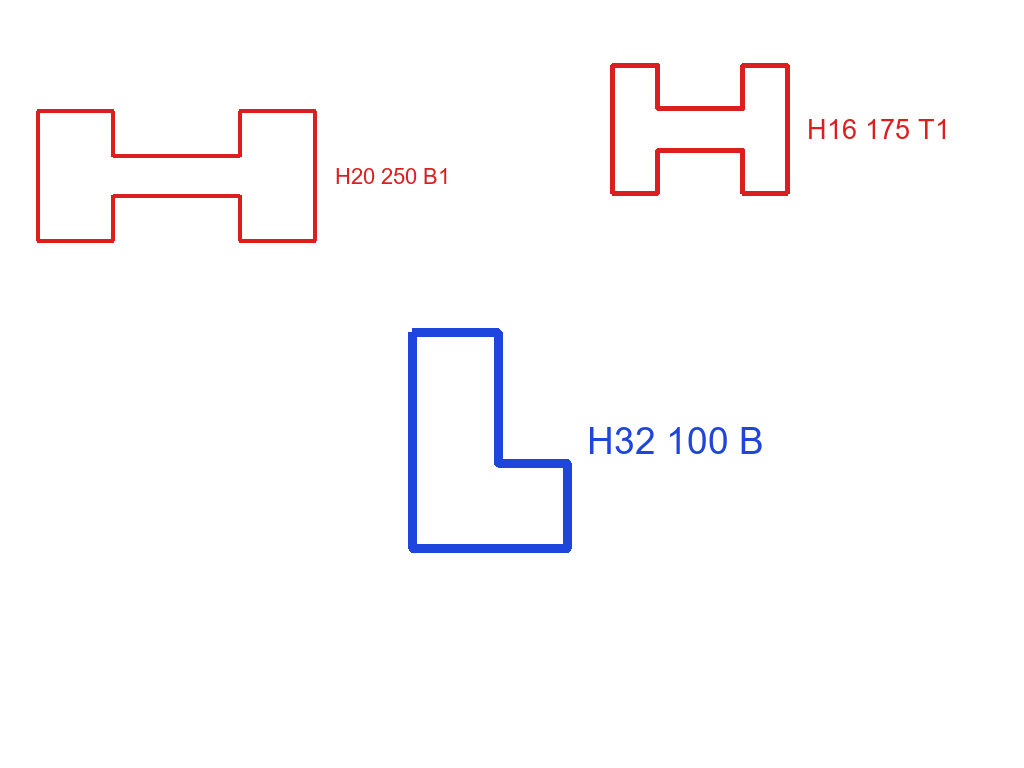shape: (34, 107, 319, 245), (406, 326, 574, 555), (608, 61, 792, 198)
text: (585, 425, 766, 456), (805, 117, 952, 141), (333, 166, 452, 186)
